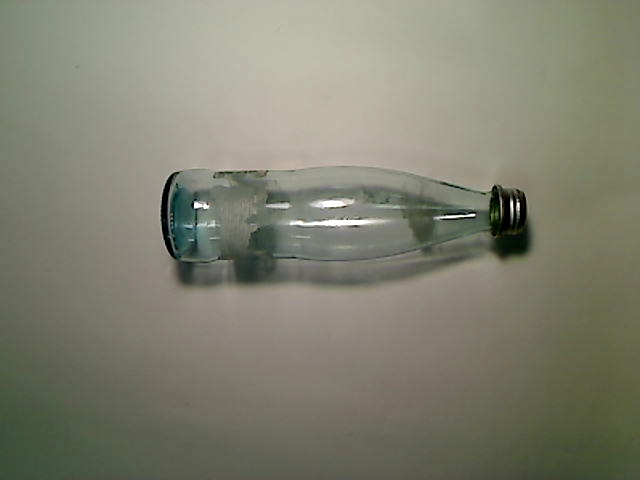bottle: (161, 162, 528, 266)
